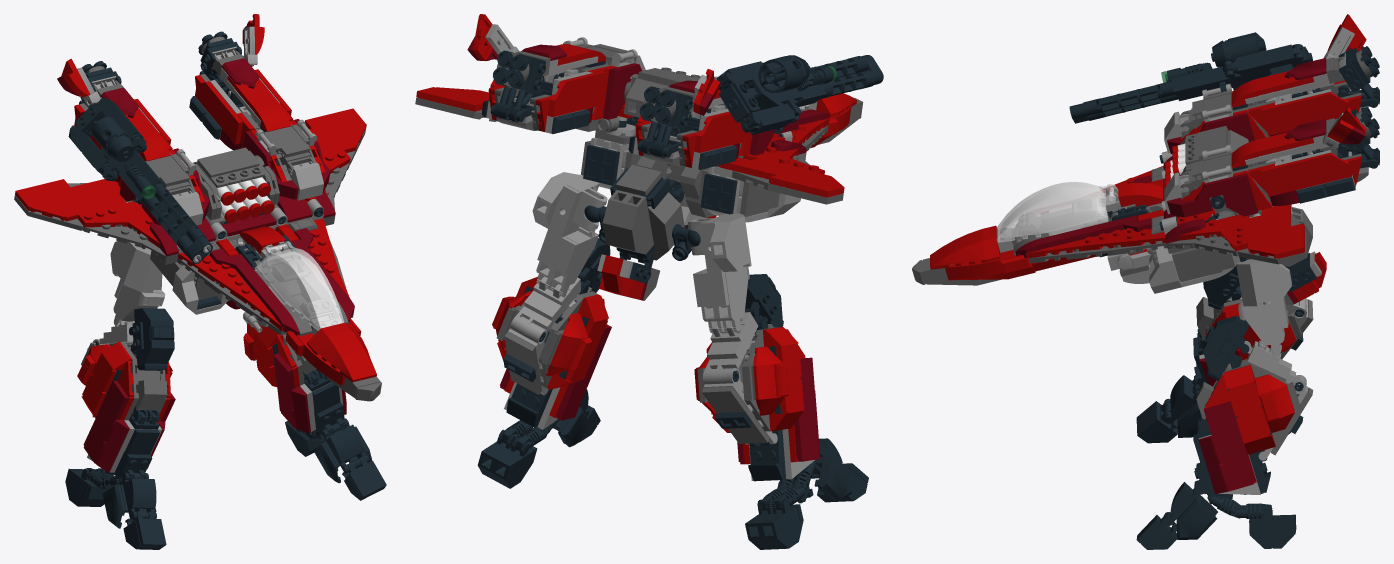
The model's file is afc-01z-legioss-gerwalk.dae.
The picture shows the model from 3 angles, left to right: view 1: azimuth 30°, elevation 25°; view 2: azimuth 150°, elevation 25°; view 3: azimuth 270°, elevation 25°; orthographic projection. The views are drawn at different scales.
Bounding box in the file's own units: 560 × 649 × 663.
